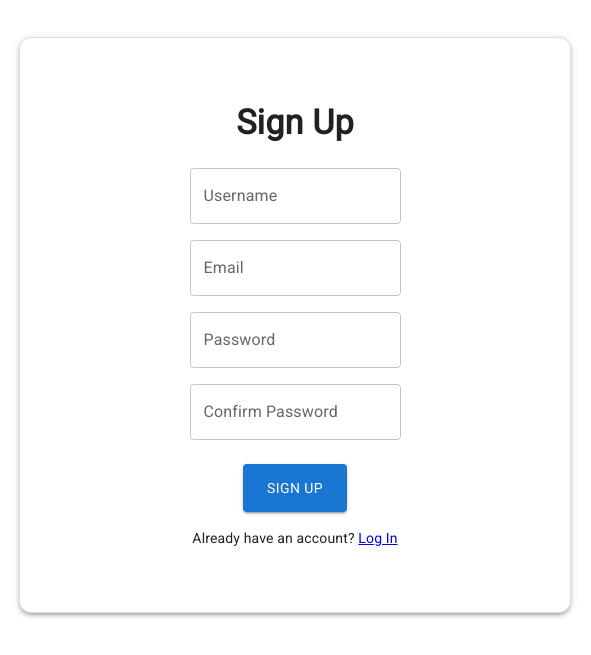
Scenario: Signup Component › displays error message when signup fails due to server error
In the field labelled "Username": x=295, y=196 [190,168,400,224], type "testuser"
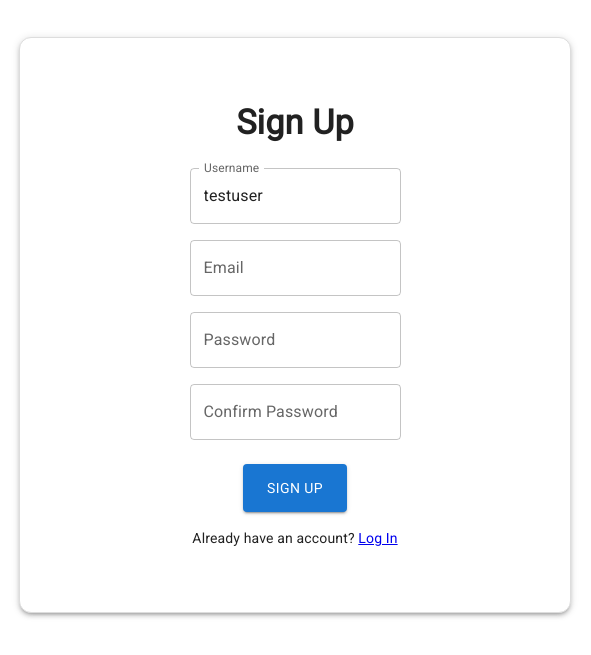
In the field labelled "Email": x=295, y=268 [190,240,400,296], type "testuser@example.com"
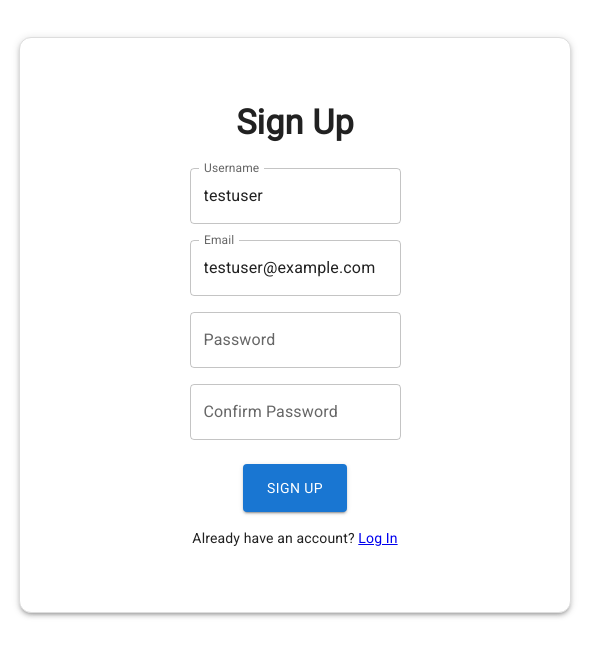
In the password field labelled "Password": x=295, y=340 [190,312,400,368], type "Test1234!"
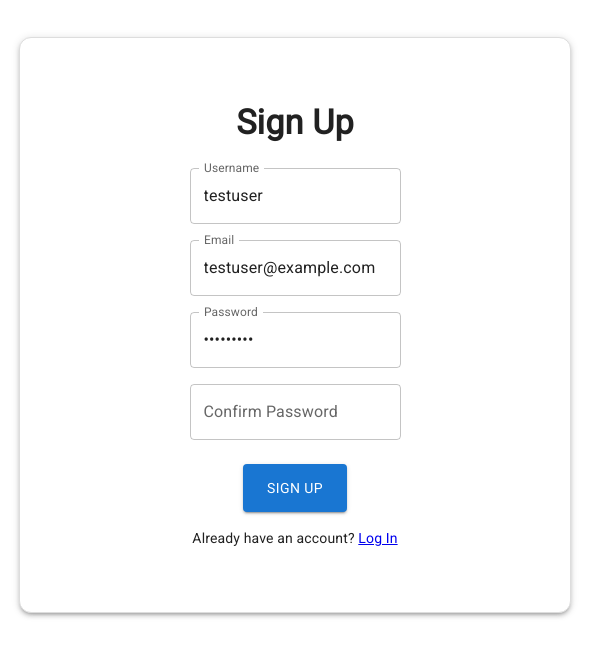
In the password field labelled "Confirm Password": x=295, y=412 [190,384,400,440], type "Test1234!"
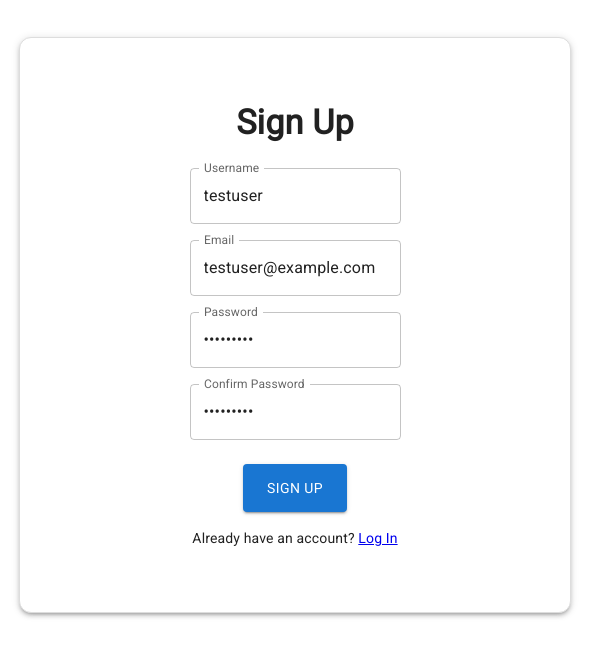
Click the button with test id "signup-button": x=295, y=488 [243,464,347,512]
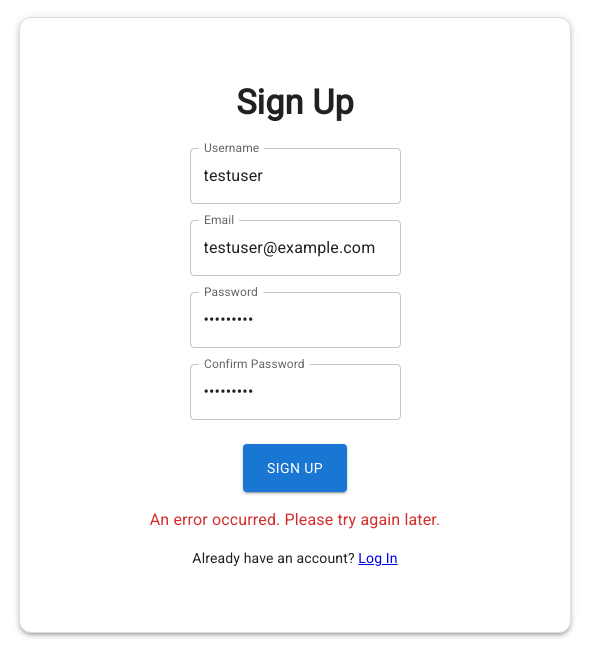
Expected: the text "An error occurred. Please try again later." is shown, [150,508,440,532]
